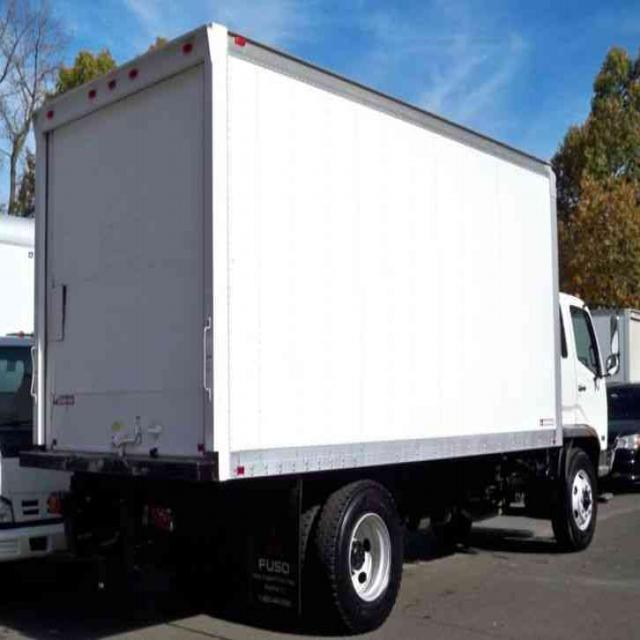truck: (29, 19, 616, 628)
